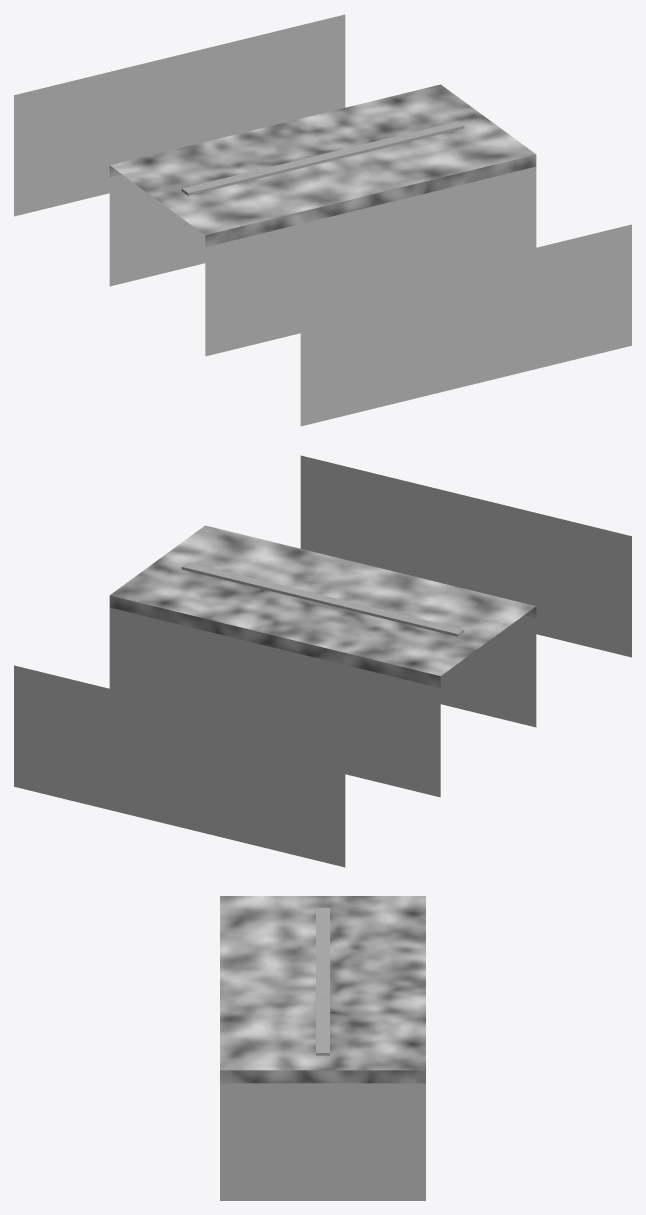
File: Road.fbx
The picture shows the model from 3 angles, top to bottom: view 1: azimuth 30°, elevation 25°; view 2: azimuth 150°, elevation 25°; view 3: azimuth 270°, elevation 25°; orthographic projection. The views are drawn at different scales.
Visible parts, largest first — view 1: Plane; view 2: Plane; view 3: Plane.
Part boxes in pixels (<box>): Plane: <box>14,14,631,426</box>; Plane: <box>14,455,631,867</box>; Plane: <box>220,896,425,1200</box>.
Bounding box in the file's own units: 400 × 143 × 600.
